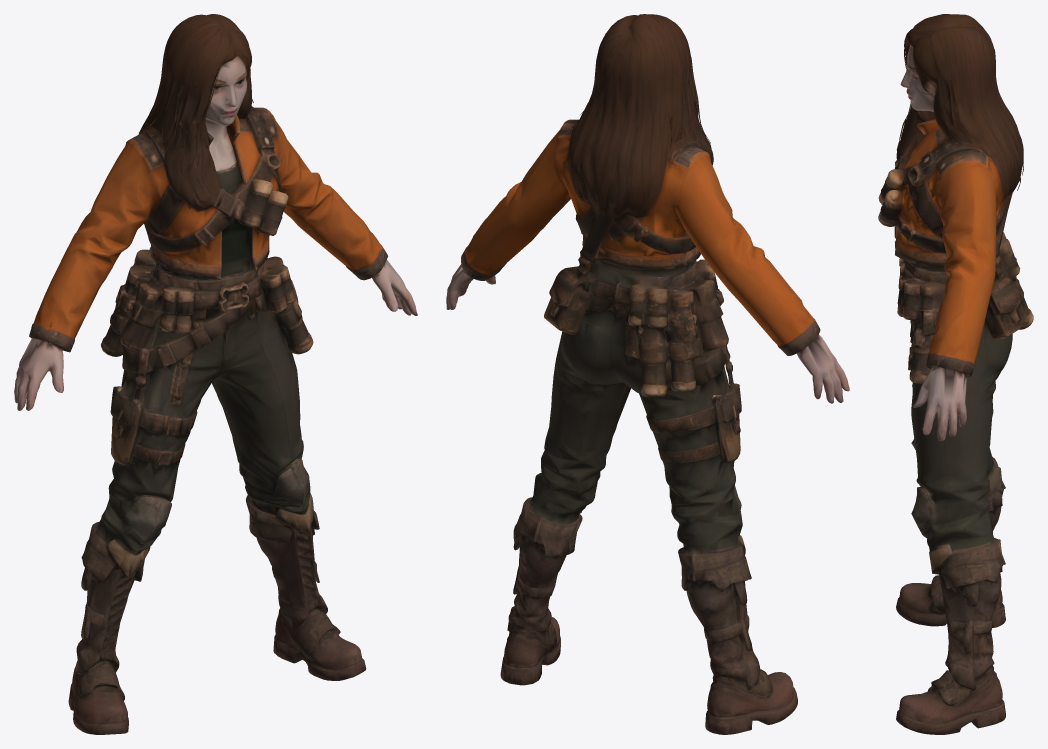
Rendered from launcher.glb.
3 views of the same model, side by side, from view 1: azimuth 30°, elevation 25°; view 2: azimuth 150°, elevation 25°; view 3: azimuth 270°, elevation 25° (orthographic). The views are drawn at different scales.
Visible parts, largest first — view 1: material; view 2: material; view 3: material.
Part boxes in pixels (<box>): material: <box>14,14,417,734</box>; material: <box>446,14,849,734</box>; material: <box>878,14,1033,734</box>.
Size of the model in its own units: 1.07 by 1.76 by 0.3796.
Materials: 1 (1 with a texture image).
